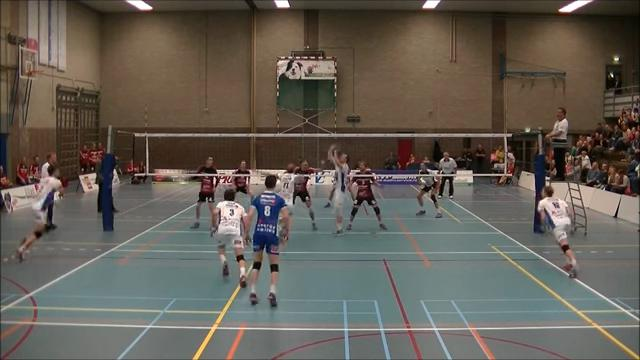alzata: (321, 140, 352, 240)
